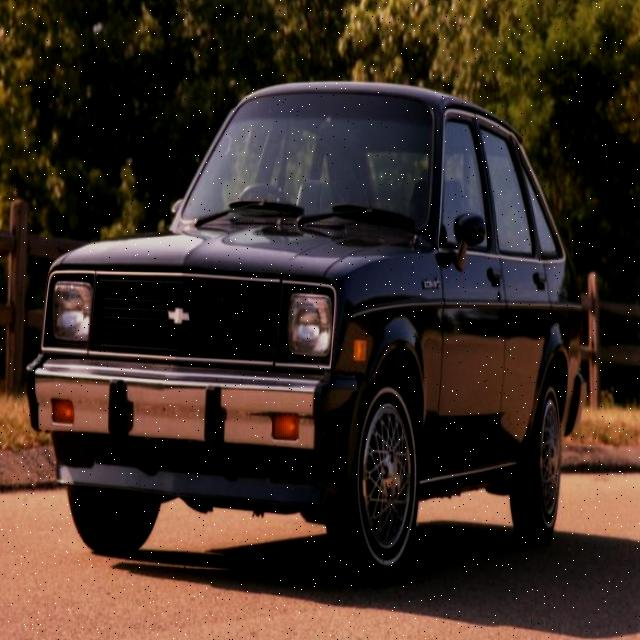car: (29, 81, 588, 588)
